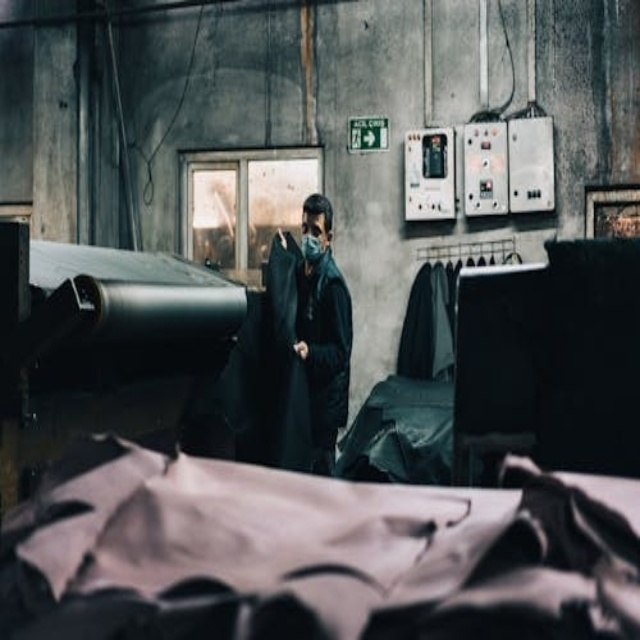Mascara: (301, 232, 325, 262)
Sin_gafas: (302, 222, 325, 237)
